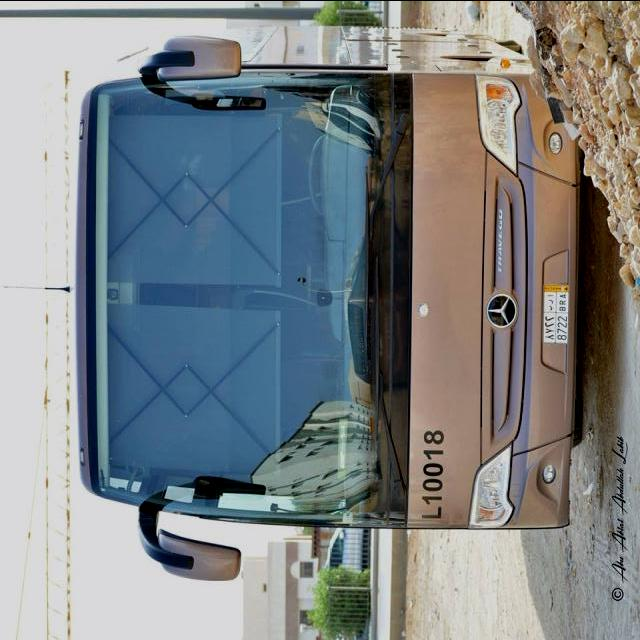bus: (71, 18, 584, 583)
